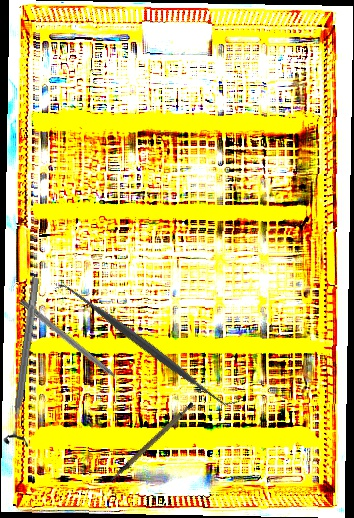Fixation Ring: (1, 275, 50, 448)
Hook Surgical: (17, 298, 132, 392)
Scalpel Handle: (99, 400, 203, 483)
Spatula Surgical: (52, 271, 241, 420)
